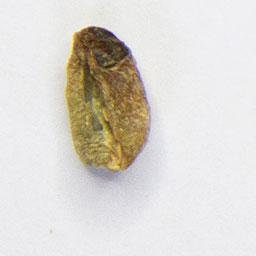defect: (62, 23, 155, 175)
